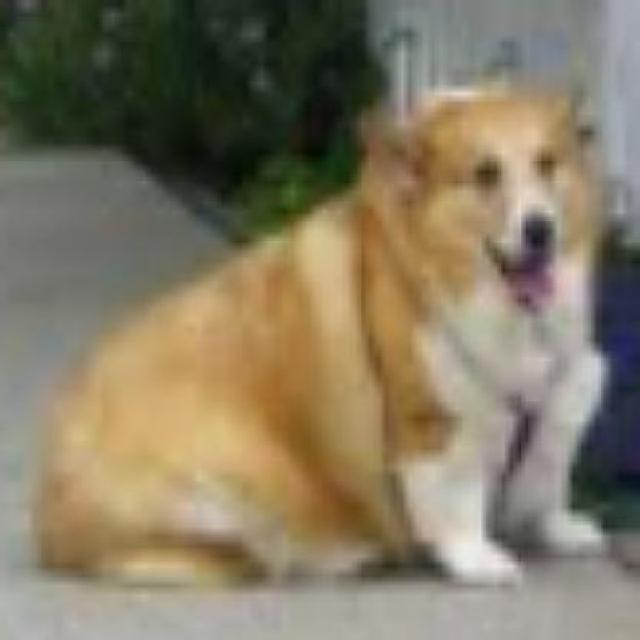Dog: (28, 69, 615, 588)
